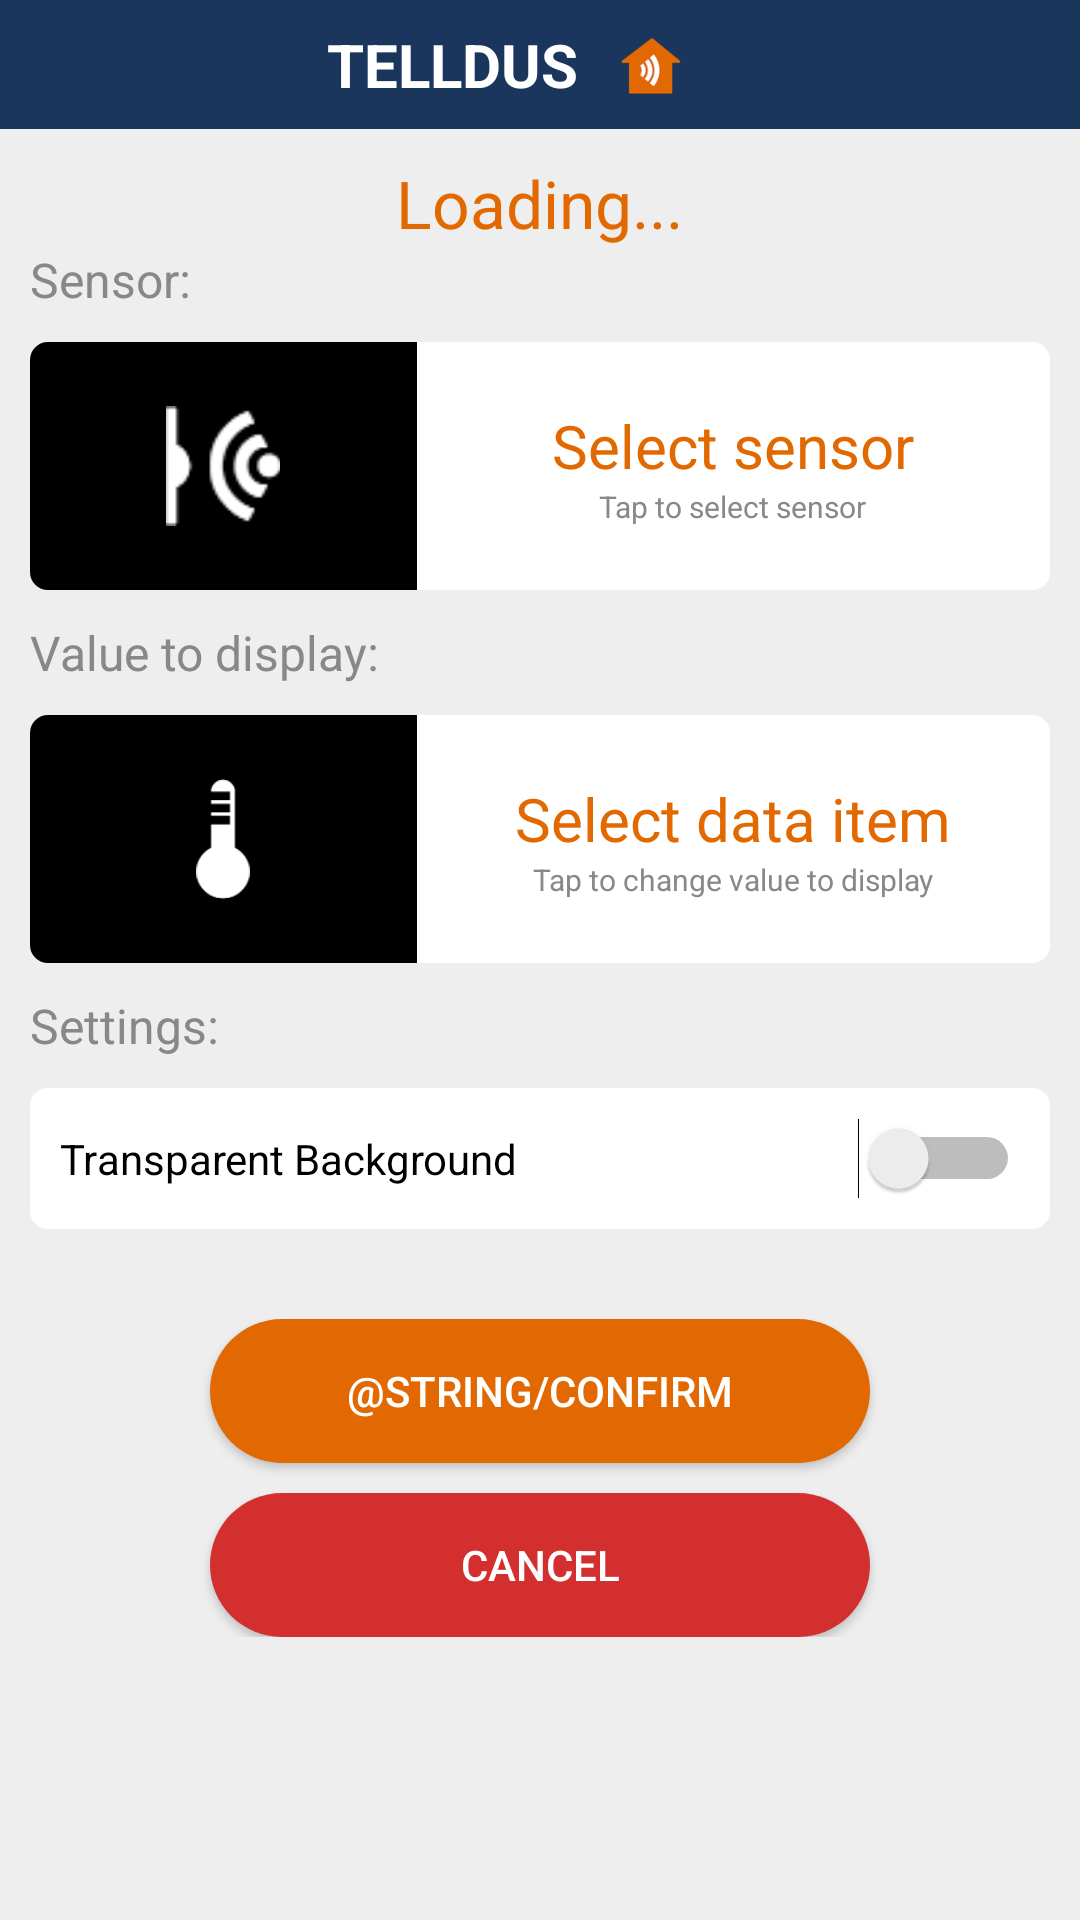

Named icons in this screenshot (1080px x 1920px) and their bounding boxes, [x1,y1,x2,y2]:
temperature: [196,779,250,899]
